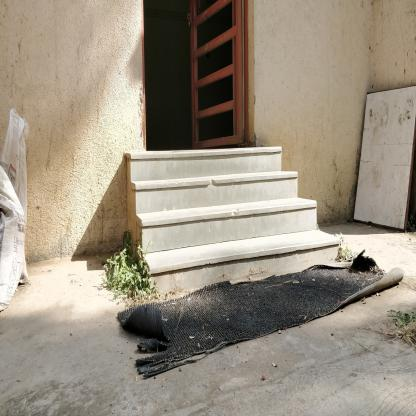stairs: (149, 142, 284, 292)
